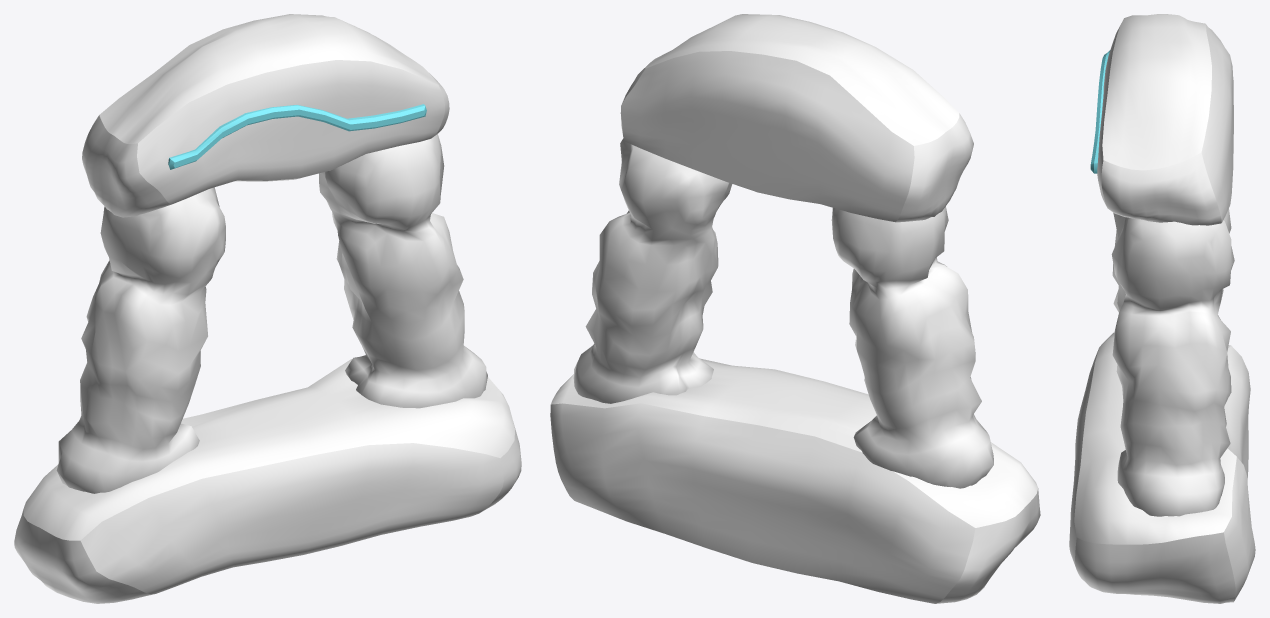
The model's file is Water Door.fbx.
The picture shows the model from 3 angles, left to right: view 1: azimuth 30°, elevation 25°; view 2: azimuth 150°, elevation 25°; view 3: azimuth 270°, elevation 25°; orthographic projection. The views are drawn at different scales.
Visible parts, largest first — view 1: WD_Bottom, WD_Top, WD_leftside, WD_Rightside, Eye_brow; view 2: WD_Bottom, WD_Top, WD_leftside, WD_Rightside; view 3: WD_Rightside, WD_Top, WD_Bottom, Eye_brow, WD_leftside.
Part boxes in pixels (bbox=[...]): WD_Bottom: bbox=[14, 359, 521, 603]; WD_Top: bbox=[82, 14, 449, 217]; WD_leftside: bbox=[56, 187, 225, 493]; WD_Rightside: bbox=[319, 134, 487, 408]; Eye_brow: bbox=[168, 104, 426, 169]; WD_Bottom: bbox=[550, 358, 1040, 603]; WD_Top: bbox=[620, 14, 973, 222]; WD_leftside: bbox=[831, 206, 993, 488]; WD_Rightside: bbox=[573, 138, 732, 403]; WD_Rightside: bbox=[1111, 217, 1234, 516]; WD_Top: bbox=[1097, 14, 1233, 225]; WD_Bottom: bbox=[1069, 332, 1255, 603]; Eye_brow: bbox=[1090, 50, 1110, 173]; WD_leftside: bbox=[1112, 208, 1231, 312].
Size of the model in its own units: 4.08 by 4.31 by 1.47.
